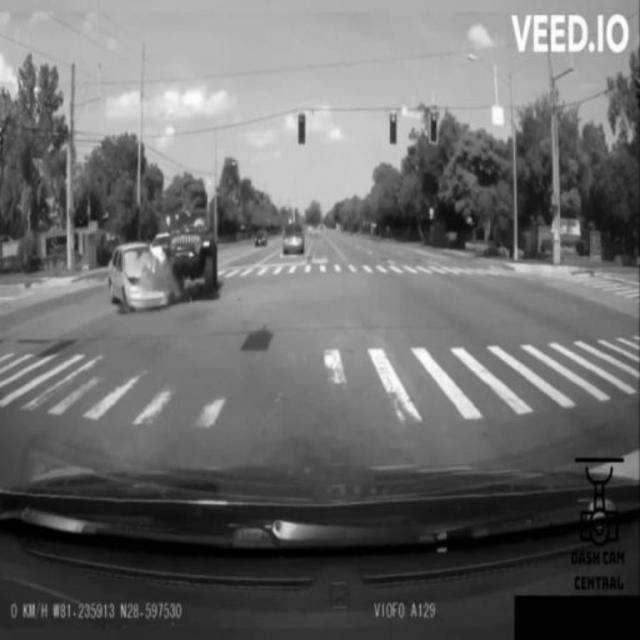accident: (107, 211, 217, 309)
vehicle: (278, 223, 306, 257)
